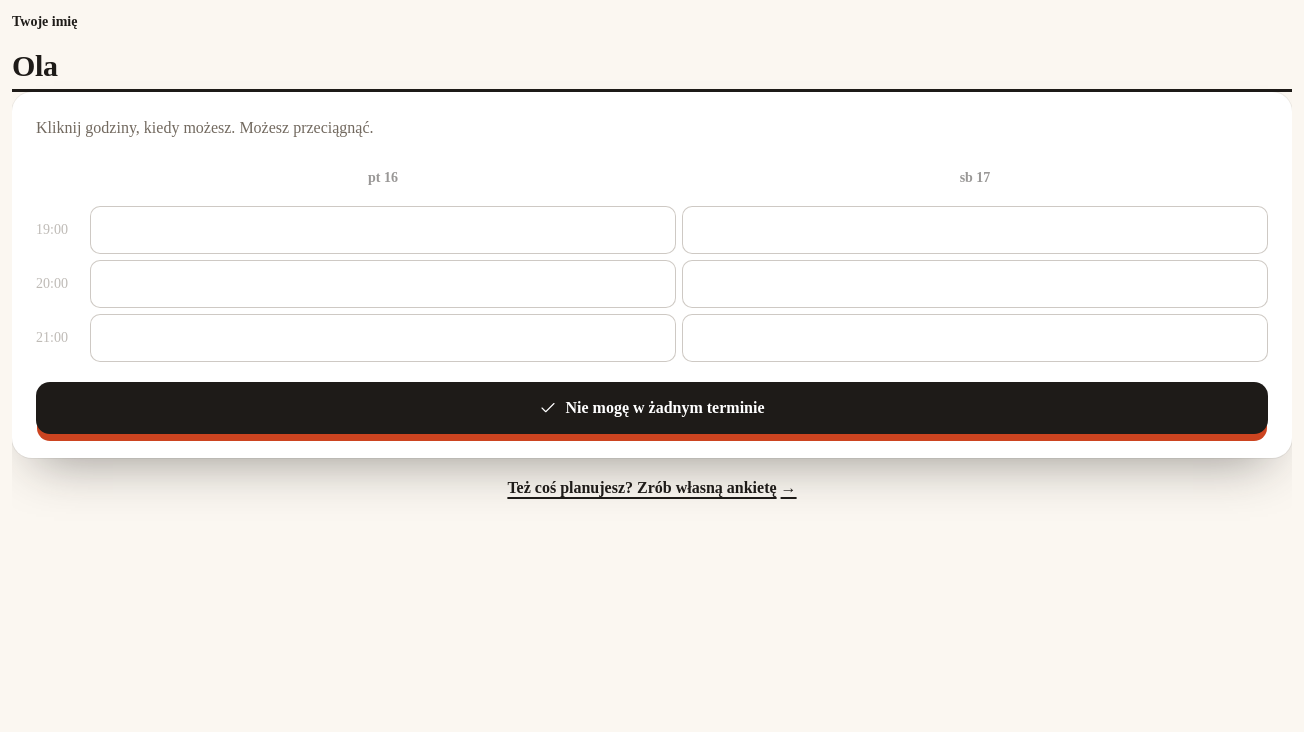
the Moje lead and body › says what happened and what to do when the poll is closed
This screenshot has width=1304, height=732.
Click the button named "pt 16, 19:00" at (383, 230), box [90, 206, 676, 254]
Wait 500 ms
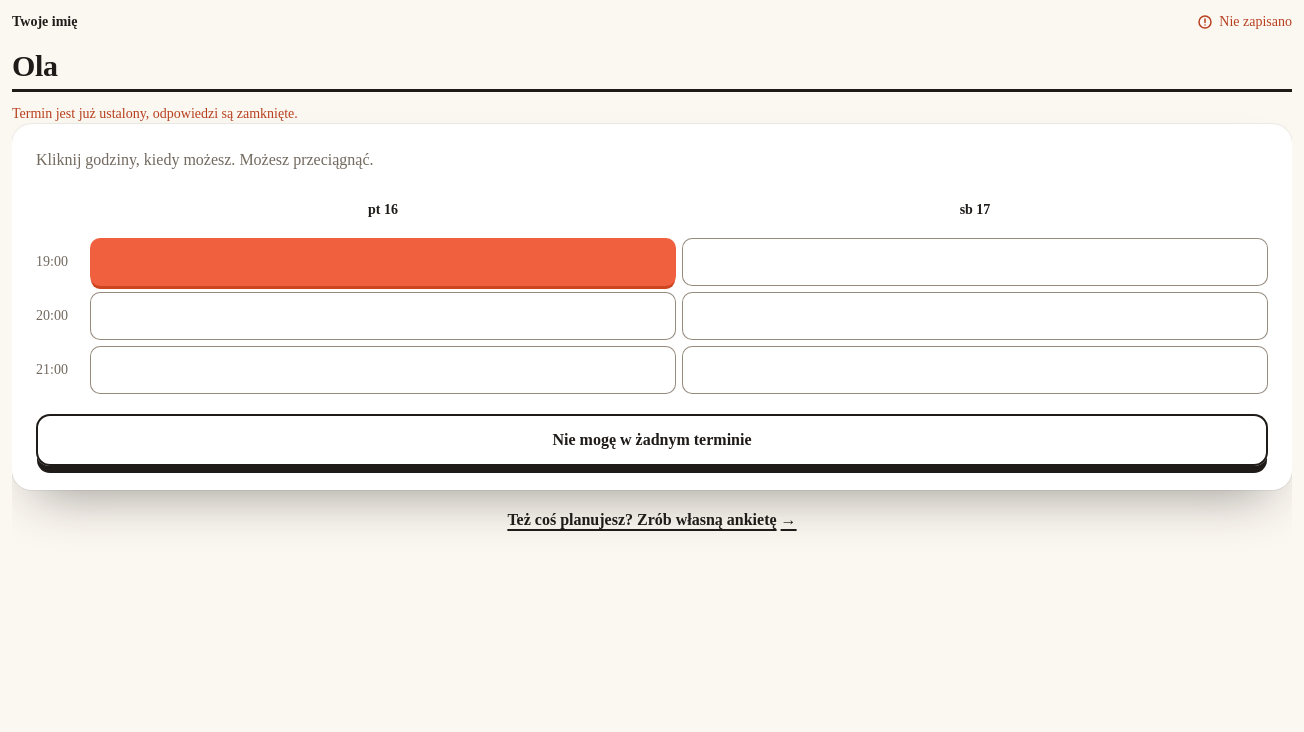
Check: the message "Termin jest już ustalony, odpowiedzi są zamknięte." is shown, box [12, 106, 298, 121]
Check: the message "Nie zapisano" is shown, box [1197, 12, 1292, 32]
